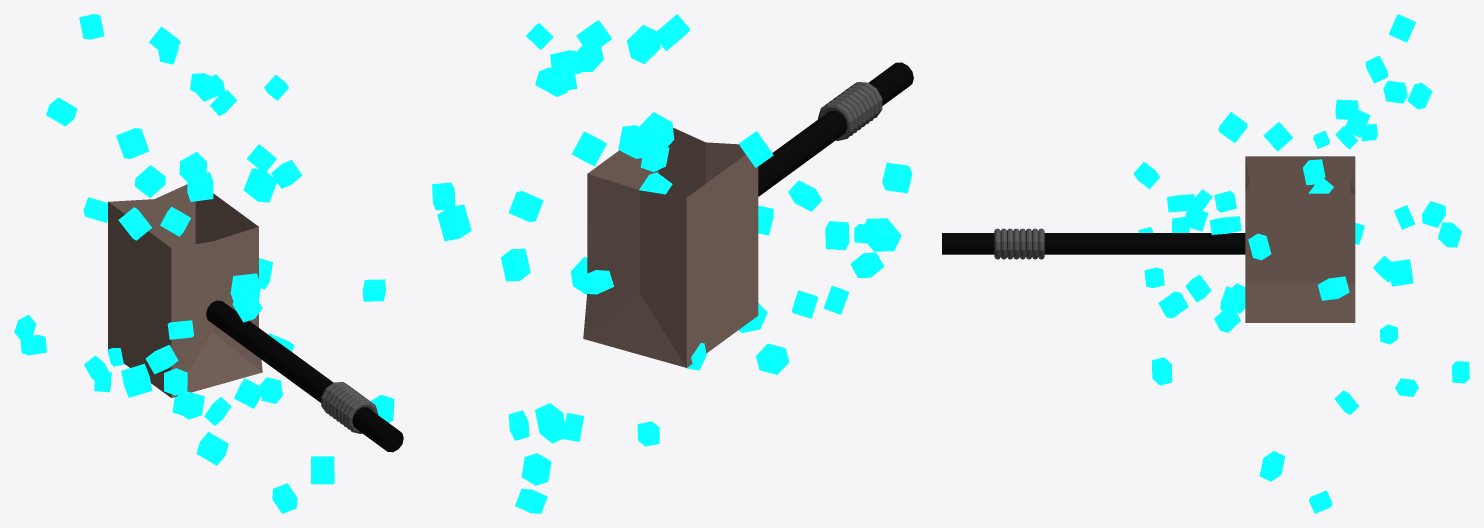
3 renders of one model, left to right at view 1: azimuth 30°, elevation 25°; view 2: azimuth 150°, elevation 25°; view 3: azimuth 270°, elevation 25°, orthographic. The views are drawn at different scales.
Visible parts, largest first — view 1: bag hammer; view 2: bag hammer; view 3: bag hammer.
Part boxes in pixels (<box>): bag hammer: <box>14,14,403,513</box>; bag hammer: <box>432,14,913,513</box>; bag hammer: <box>942,14,1469,513</box>.
Size of the model in its own units: 591 by 869 by 959.
